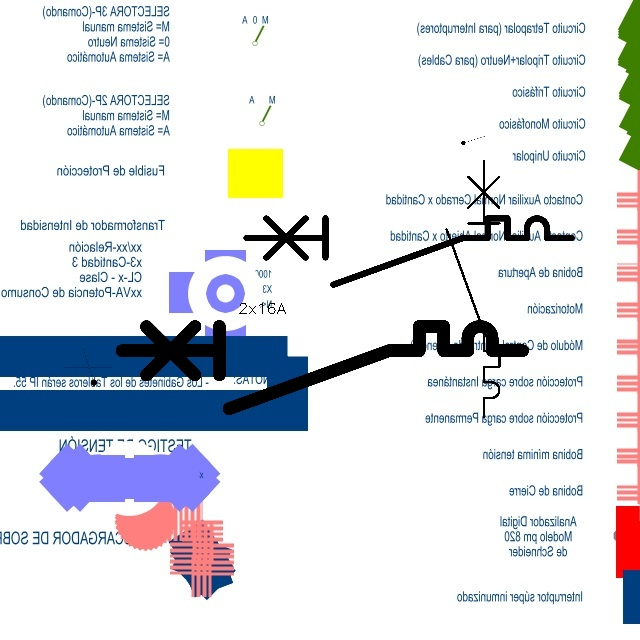interruptor_termomagnetico: (111, 316, 532, 419), (238, 210, 580, 293), (440, 154, 506, 424)
